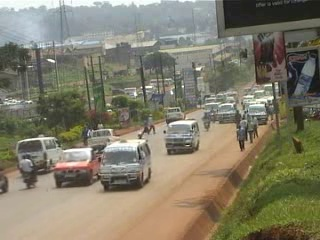Car: (0, 162, 10, 197)
Motorcycle: (16, 164, 39, 189), (198, 114, 212, 132), (208, 112, 214, 124)
